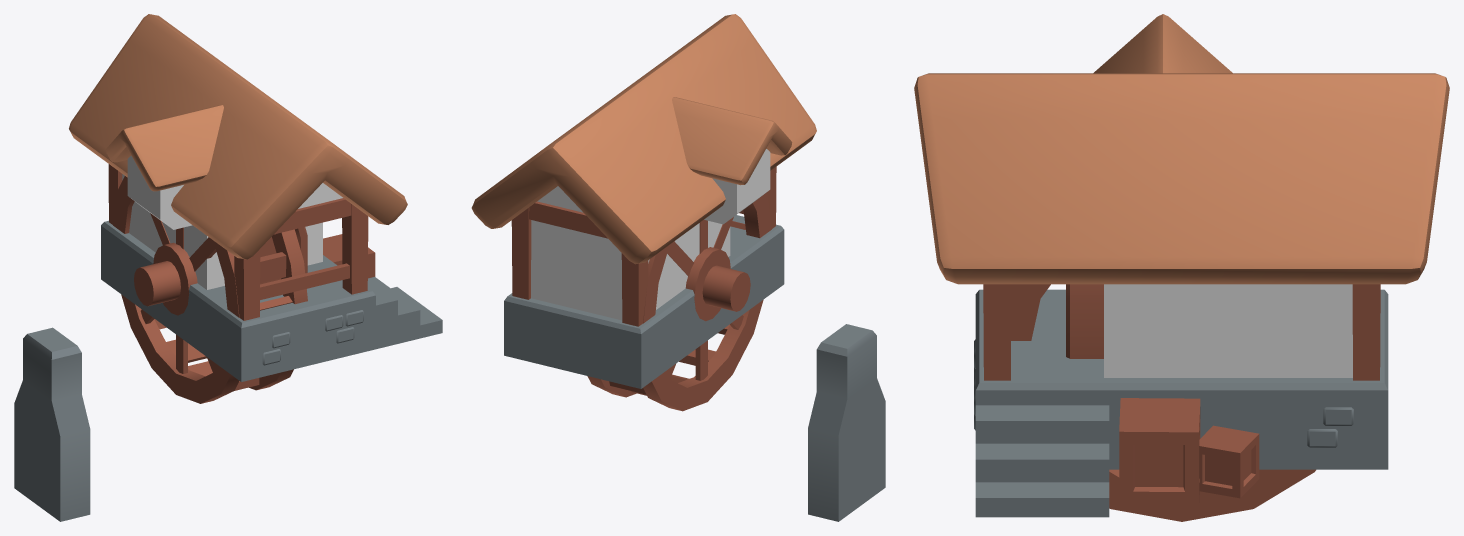
The model's file is watermill.gltf.glb.
3 renders of one model, left to right at view 1: azimuth 30°, elevation 25°; view 2: azimuth 150°, elevation 25°; view 3: azimuth 270°, elevation 25°, orthographic. The views are drawn at different scales.
Visible parts, largest first — view 1: watermill, watermill_wheel; view 2: watermill, watermill_wheel; view 3: watermill, watermill_wheel.
Part boxes in pixels (x1,y1,x2,y2): watermill: [14, 14, 442, 521]; watermill_wheel: [113, 176, 307, 403]; watermill: [471, 14, 885, 521]; watermill_wheel: [587, 192, 771, 411]; watermill: [914, 14, 1449, 517]; watermill_wheel: [1011, 284, 1315, 521].
Size of the model in its own units: 50276 by 52333 by 46545.
